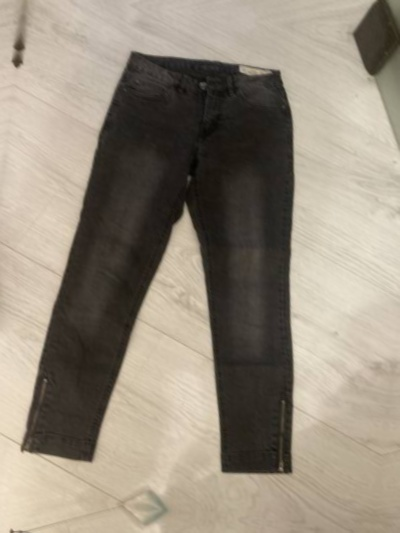Pants: (19, 28, 363, 486), (81, 0, 400, 6)
